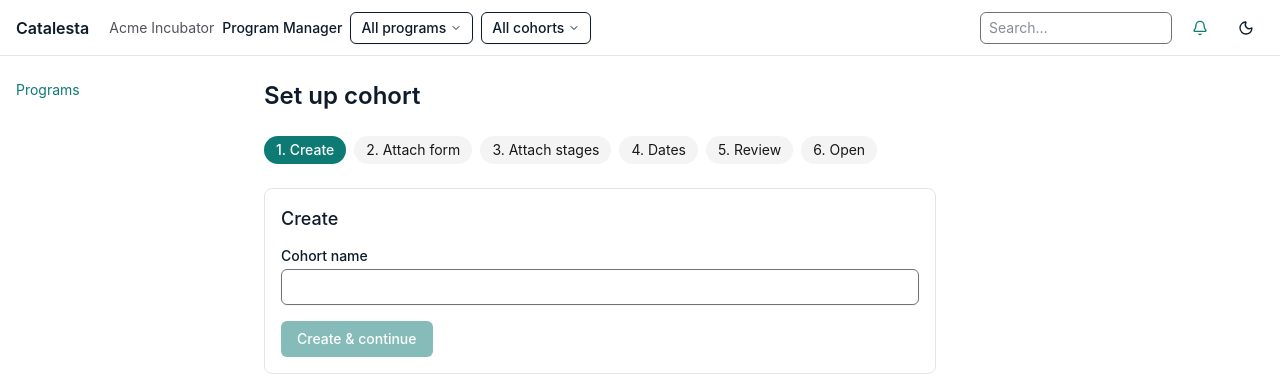
Scenario: create step posts the cohort and advances to Attach form
This screenshot has width=1280, height=391.
In the field labelled "Cohort name": x=600, y=287 [281,269,919,305], type "Autumn 2026"
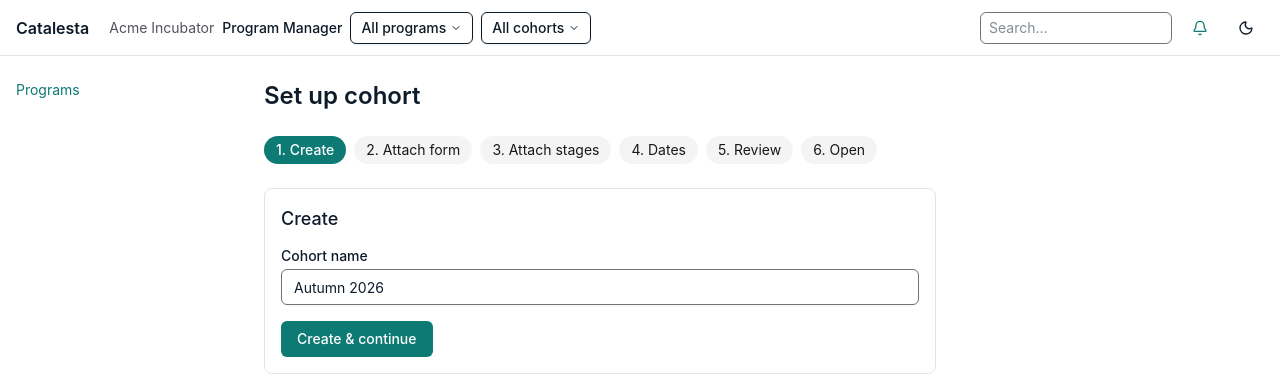
Click the button "Create & continue": x=357, y=339 [281,321,432,357]
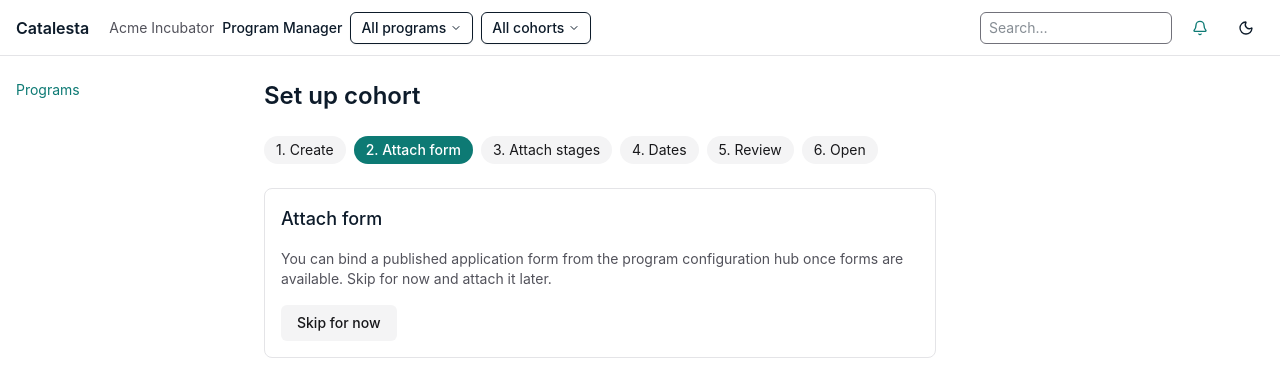
Now the heading "Attach form" is shown, box [281,208,382,229]
